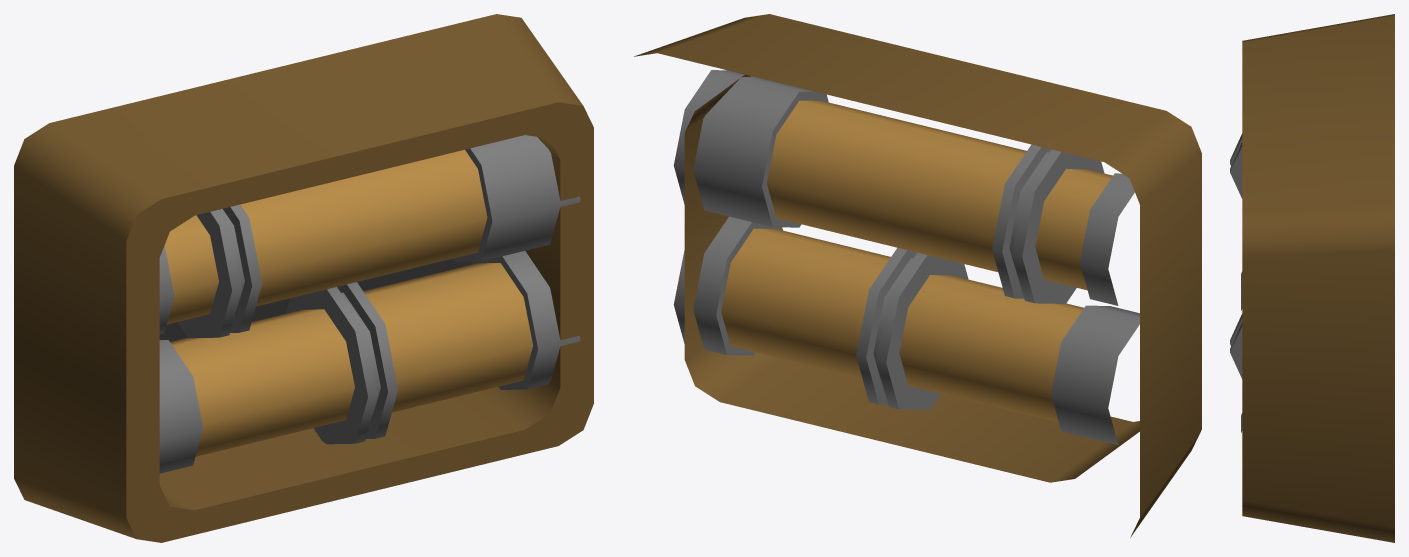
The model's file is Details_Pipes_Small.glb.
The picture shows the model from 3 angles, left to right: view 1: azimuth 30°, elevation 25°; view 2: azimuth 150°, elevation 25°; view 3: azimuth 270°, elevation 25°; orthographic projection. The views are drawn at different scales.
Parts seen in each view (by area): view 1: Details_Pipes_Small; view 2: Details_Pipes_Small; view 3: Details_Pipes_Small.
Boxes of the visible parts, x1=… form: Details_Pipes_Small: x1=14, y1=14, x2=593, y2=542; Details_Pipes_Small: x1=634, y1=14, x2=1201, y2=537; Details_Pipes_Small: x1=1230, y1=14, x2=1394, y2=542.
Bounding box in the file's own units: 0.3504 × 0.2462 × 0.1102.
